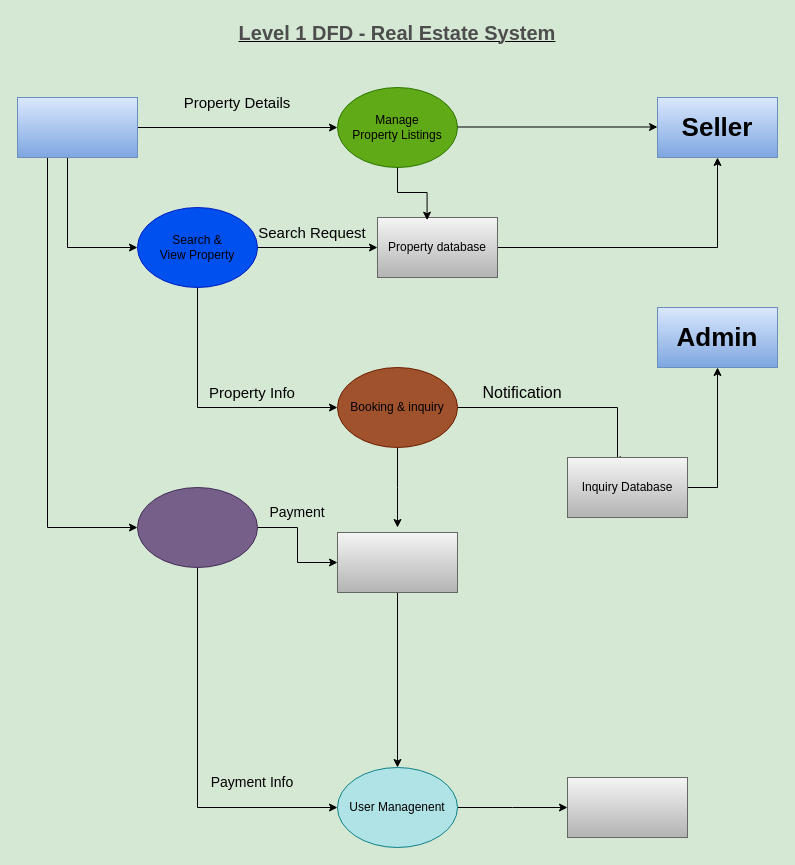
Some shapes in this 795 by 865 pixel diagram are drawn without their labels. The box of each missing label's shape, as (x1, y1, x2, y2) in pixels:
Buyer: (16, 96, 138, 158)
Payment Database: (336, 532, 458, 592)
Payment Processing: (136, 486, 258, 568)
User Database: (566, 776, 688, 838)
